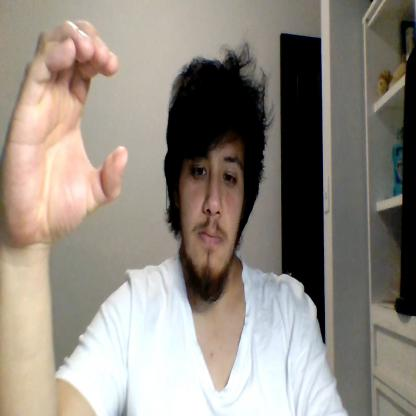C: (0, 23, 128, 246)
